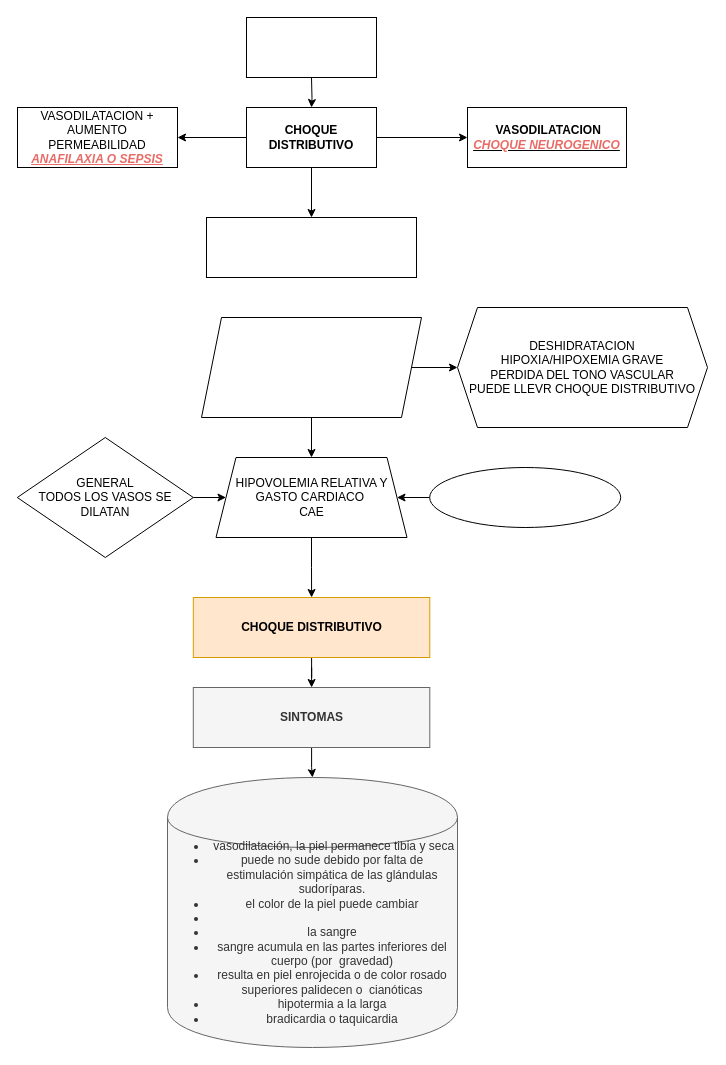
Some shapes in this 726 by 1065 pixel diagram are drawn without their labels. The shapes that lost their labels are listed below. From the top down, each one's centre as x and y in pixels, then its label:
the point at 311,47: EXPOSICION O INGESTA TOXINAS DROGAS
the point at 311,247: ESTIMILAN: PARASINPATICO BLOQUEAN SINPÁTICO
the point at 311,367: SOBREDOSIS: FARMACOS TOXICOS DORGAS PRODUCE BLOQUEO DE: ACETILCOLINA ADRENALINA
the point at 525,497: ACTIVIDAD SIMPATIVA DISMINUYE: BRADICARDIA
